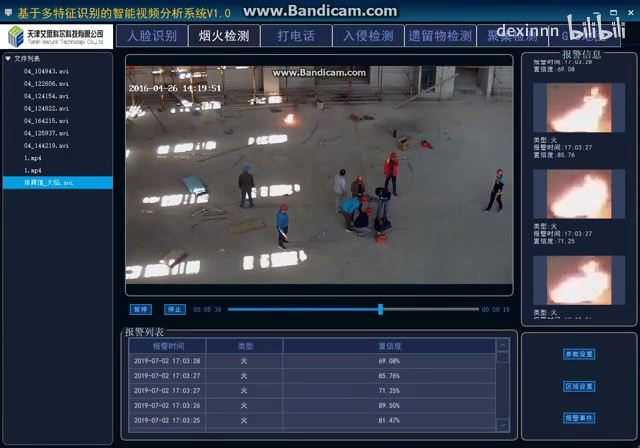fire: (283, 111, 298, 125)
